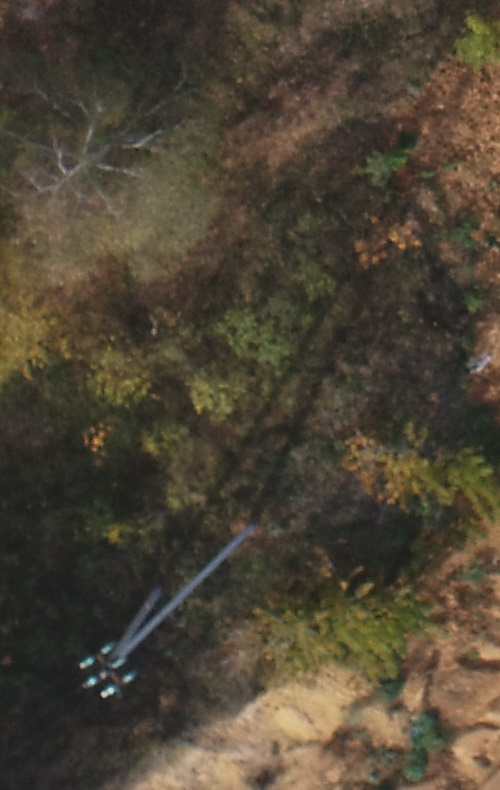opora: (72, 489, 274, 705)
